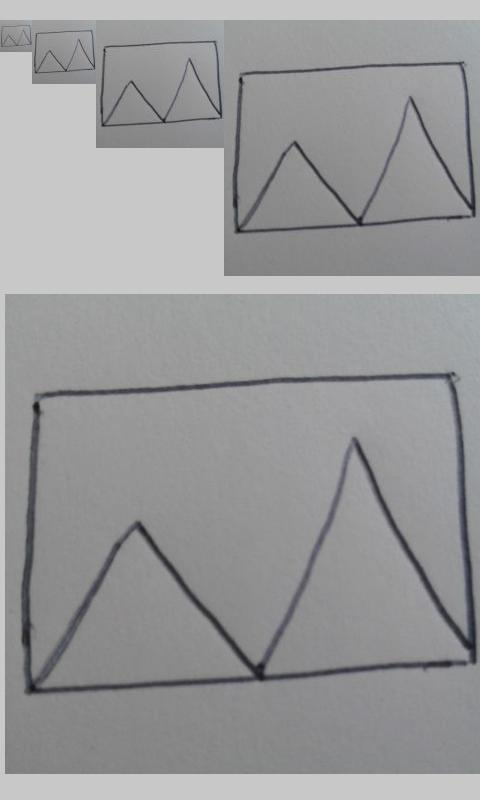image_view: (19, 370, 474, 701), (233, 61, 477, 235), (98, 39, 224, 127), (33, 29, 95, 74), (1, 24, 32, 48)
